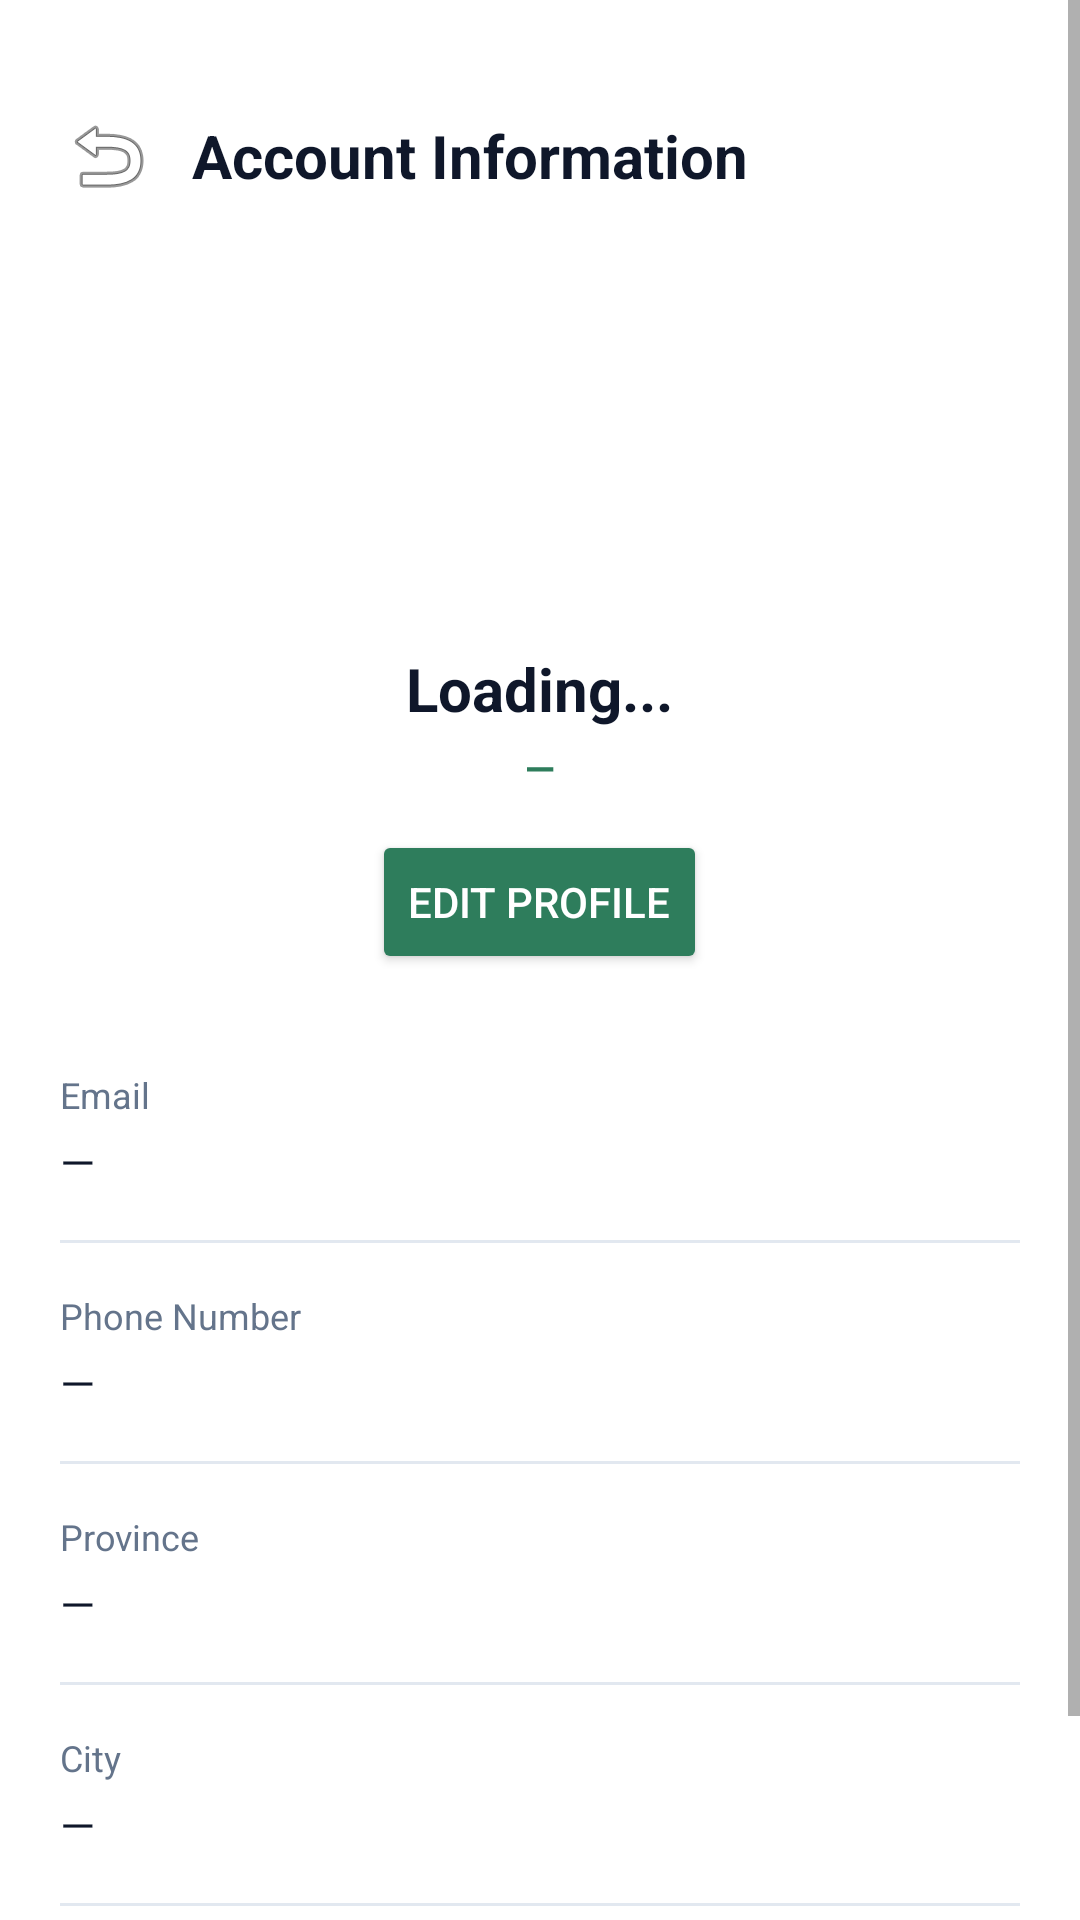

Icons on this 1080 x 1920 Android screen, each with the point to tap as (x,y):
Back: (109,156)
